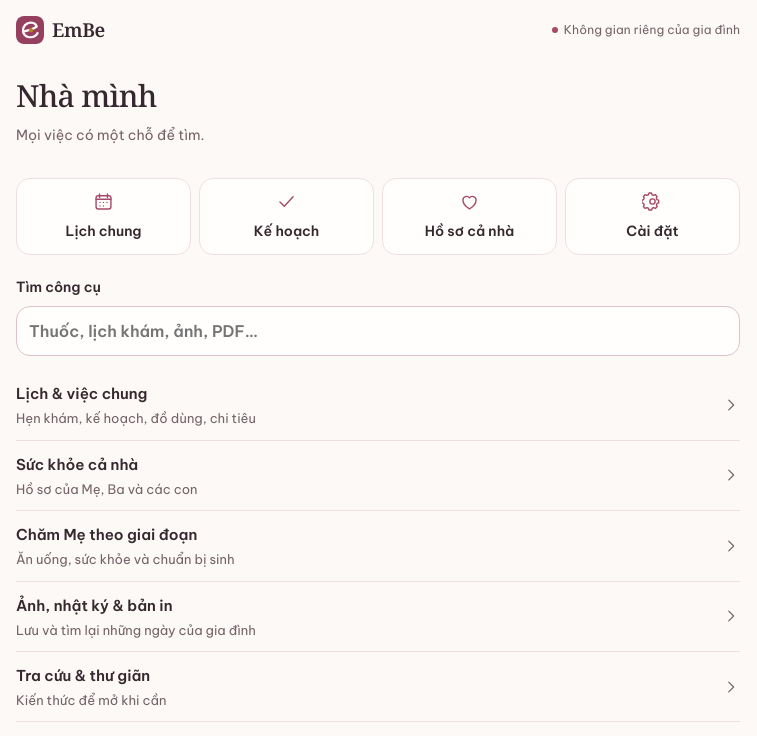
Test case: family home hub › finds tools with or without Vietnamese accents, explains no matches and clears the search
Type "thuốc" into the search field labelled "Tìm công cụ" at coordinates (382, 331), box 29,307 -> 735,355
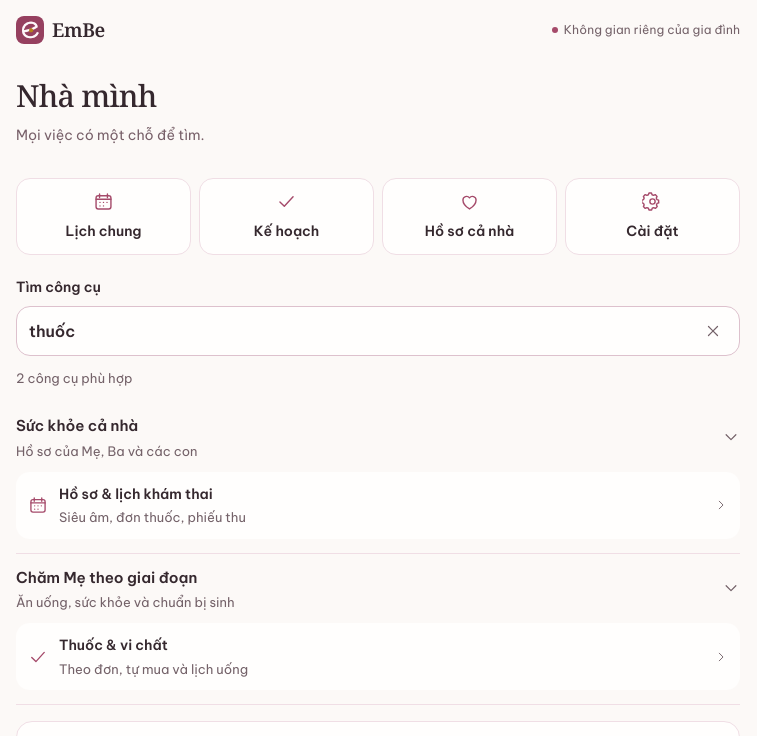
Expected: the message shows "công cụ phù hợp", 16,370 -> 133,386
Replace the text in the search field labelled "Tìm công cụ" with "thuoc" at coordinates (358, 331), box 29,307 -> 687,355
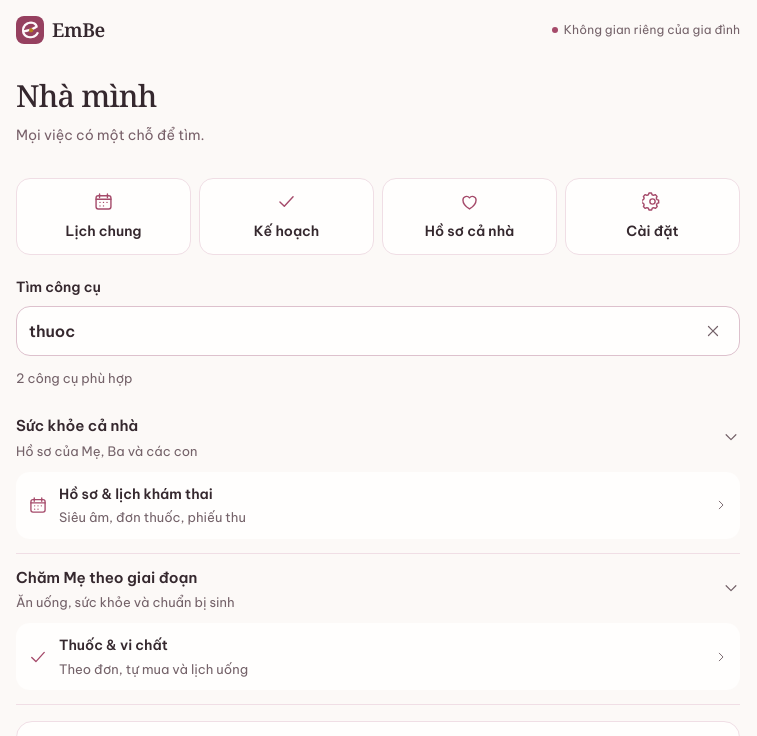
Expected: the message shows "công cụ phù hợp", 16,370 -> 133,386
Replace the text in the search field labelled "Tìm công cụ" with "zzzz-khong-co-cong-cu" at coordinates (358, 331), box 29,307 -> 687,355
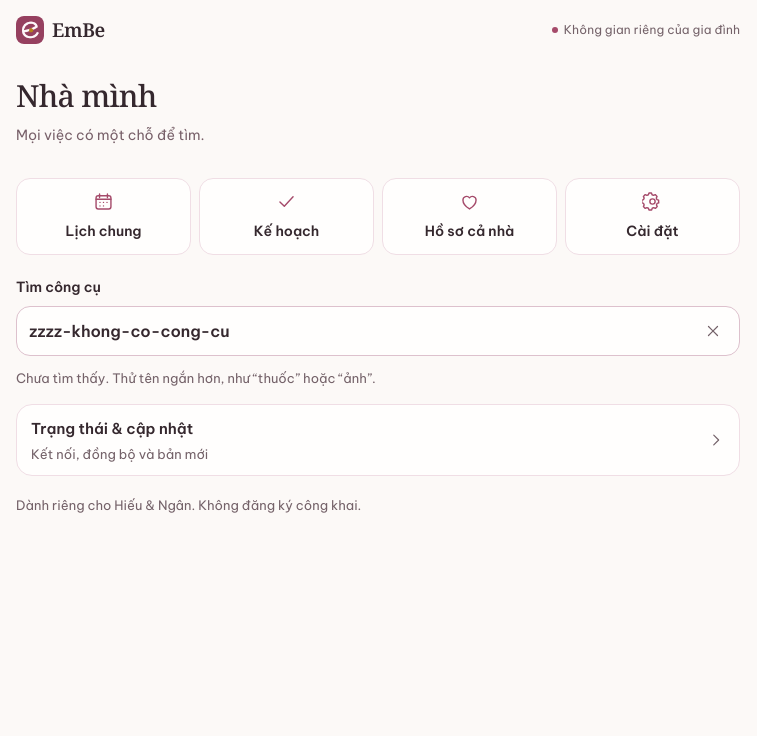
Expected: no elements with class "tool-group" are shown
Expected: the message shows "Chưa tìm thấy", 16,370 -> 376,386
Click the button named "Xóa tìm kiếm công cụ" at coordinates (713, 331), box 691,309 -> 735,353
(page scrolled)
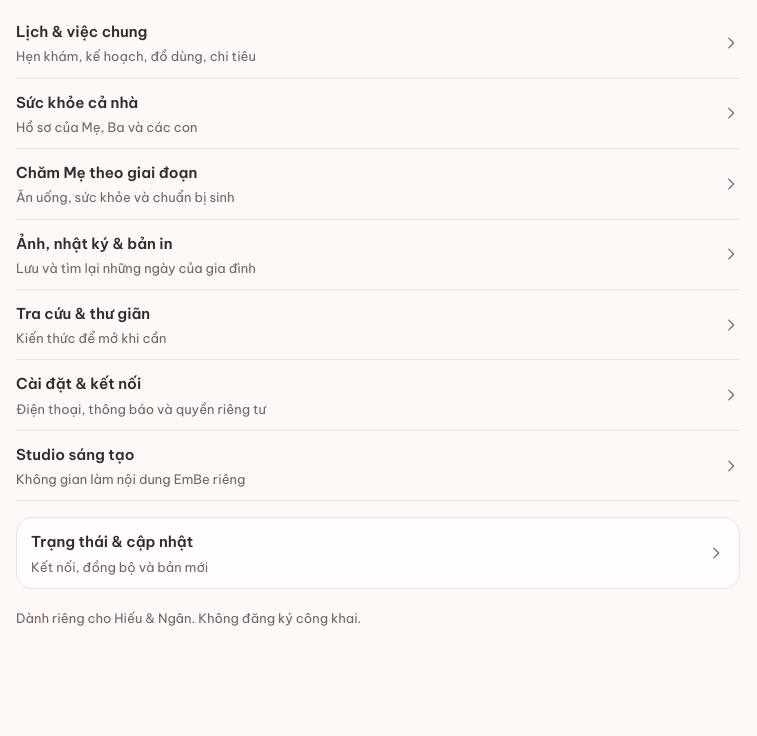
Expected: the number of elements with class "tool-group" is 7
